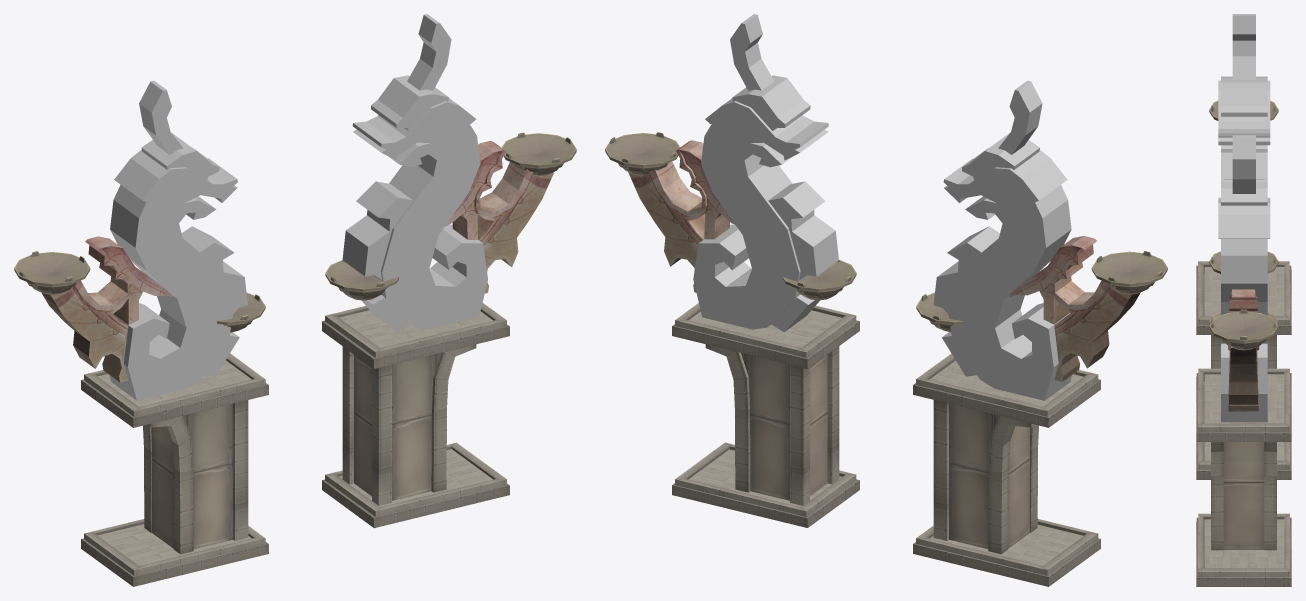
Rendered from mod_zlc_jianzhu004_xy.FBX.
3 renders of one model, left to right at view 1: azimuth 30°, elevation 25°; view 2: azimuth 150°, elevation 25°; view 3: azimuth 270°, elevation 25°, orthographic. The views are drawn at different scales.
Parts seen in each view (by area): view 1: mod_zlc_jianzhu083_xy; view 2: mod_zlc_jianzhu083_xy; view 3: mod_zlc_jianzhu083_xy.
Part boxes in pixels (<box>): mod_zlc_jianzhu083_xy: <box>14,14,576,586</box>; mod_zlc_jianzhu083_xy: <box>605,14,1167,586</box>; mod_zlc_jianzhu083_xy: <box>1196,14,1291,586</box>.
Size of the model in its own units: 3055 by 2481 by 501.
